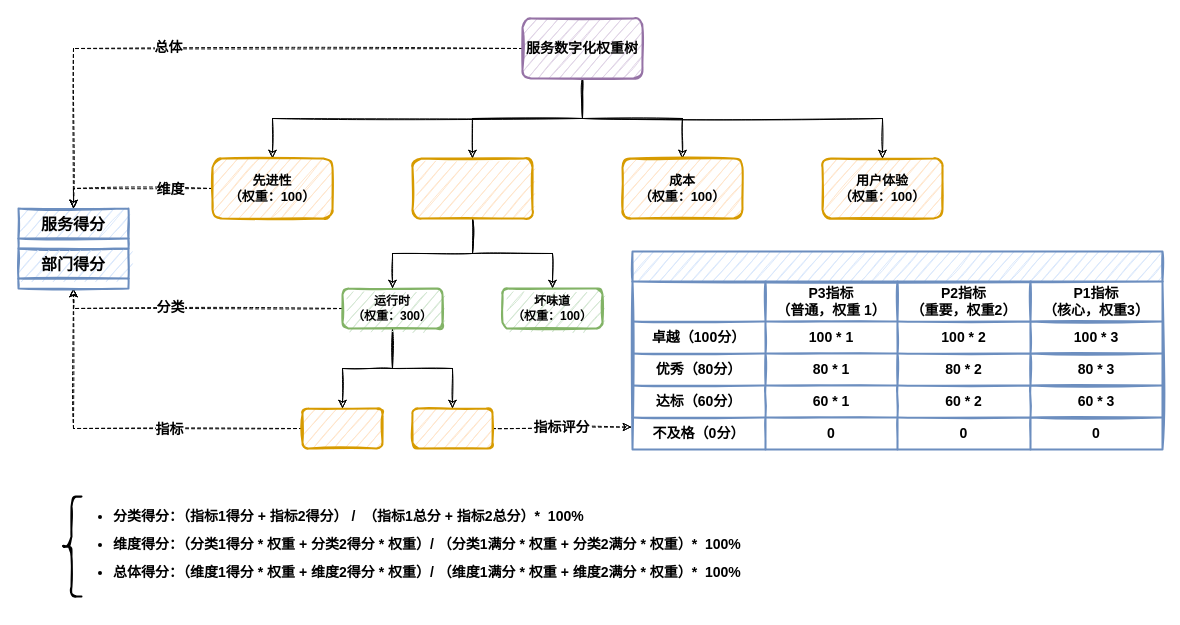
The diagram is 1180 pixels wide and 625 high, and some of its shapes have lost their labels. Each missing label, with the box of its shape:
Bug数 （等级：P1）: (411, 407, 493, 449)
慢查询 （等级：P2）: (301, 407, 383, 449)
指标得分评估表: (631, 250, 1163, 450)
质量 （权重：200）: (411, 157, 533, 219)
